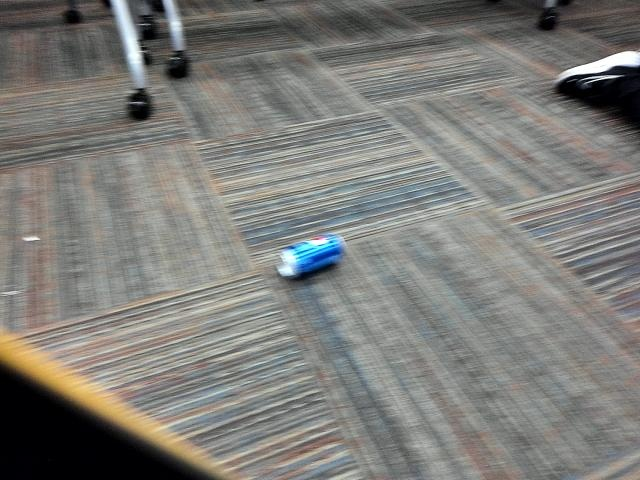can: (271, 224, 349, 281)
